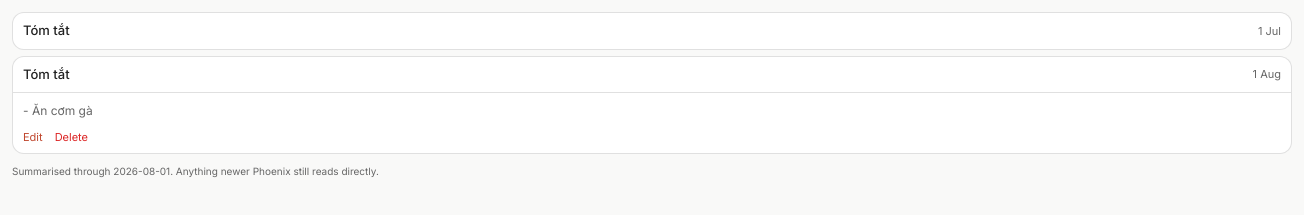
it: MemorySections › expands an older section on tap
Step 1. Click the text "1 Jul" → x=1270, y=31, box [1258,22,1281,39]
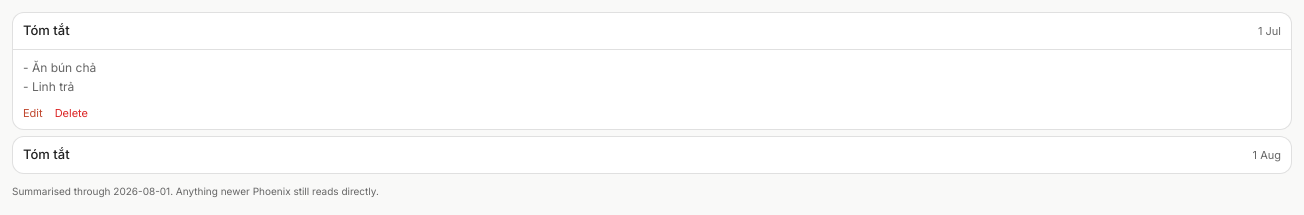
Check: the text "- Ăn bún chả - Linh trả" is shown, box [23,60,96,94]
